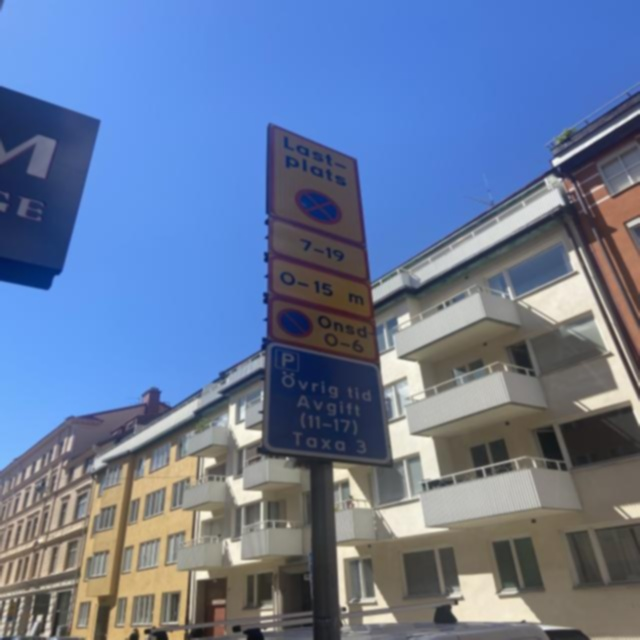lastplats: (269, 124, 372, 250)
